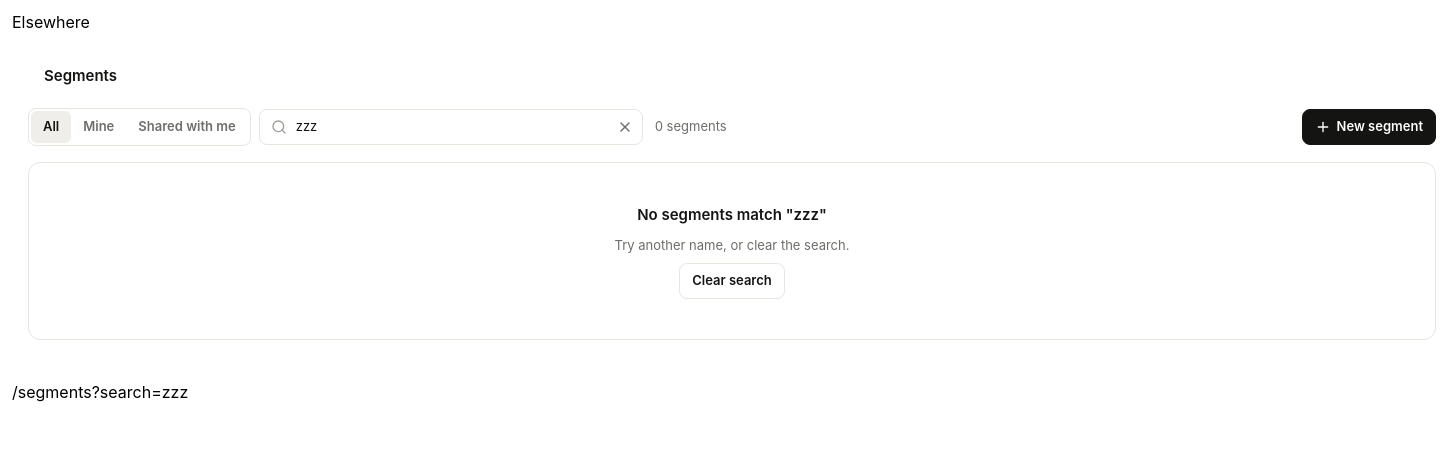
it: /segments (spec §3) › says so when nothing matches a search, and Clear search clears it
Check: the text "No segments match \"zzz\"" is shown, box top-left (637, 203), bottom-right (827, 227)
Click the button with aria-label "Clear search for “zzz”". click: (732, 281)
box: top-left (679, 263), bottom-right (785, 299)
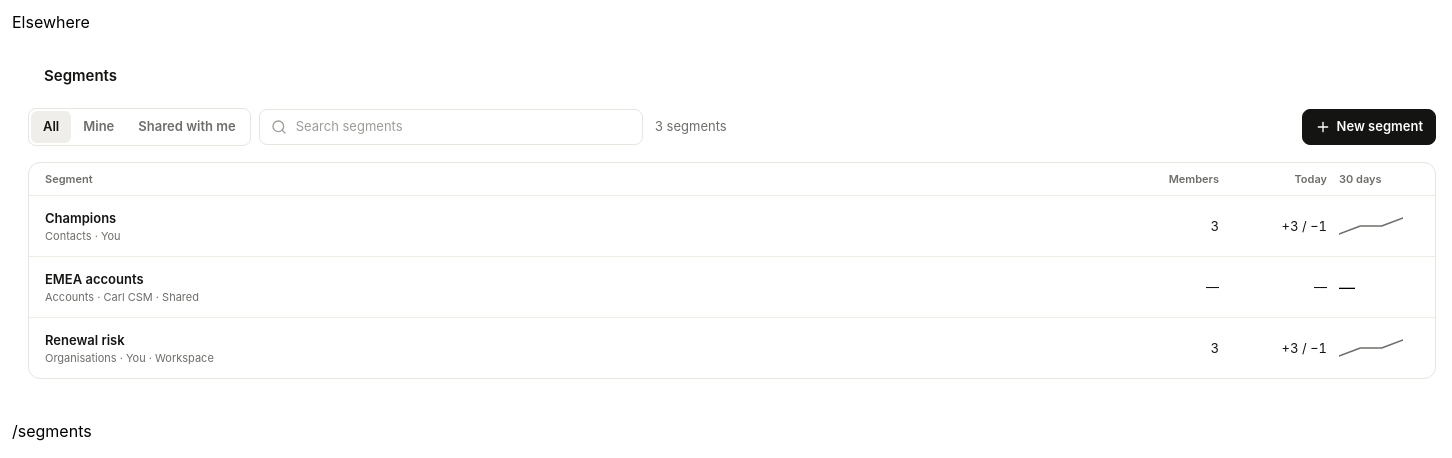
Check: the text with test id "where" reads "/segments", box top-left (12, 421), bottom-right (92, 441)
